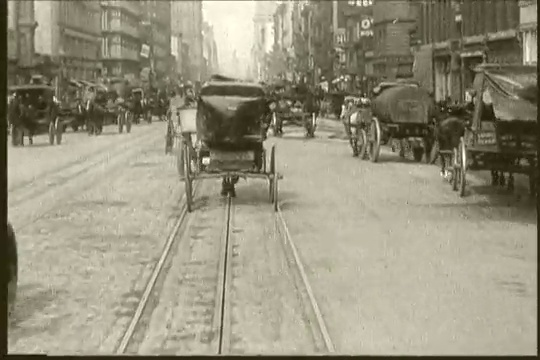car: (7, 82, 69, 154)
carriage: (425, 60, 540, 204), (178, 78, 291, 224), (336, 82, 445, 172), (262, 77, 320, 142), (79, 83, 135, 133)
